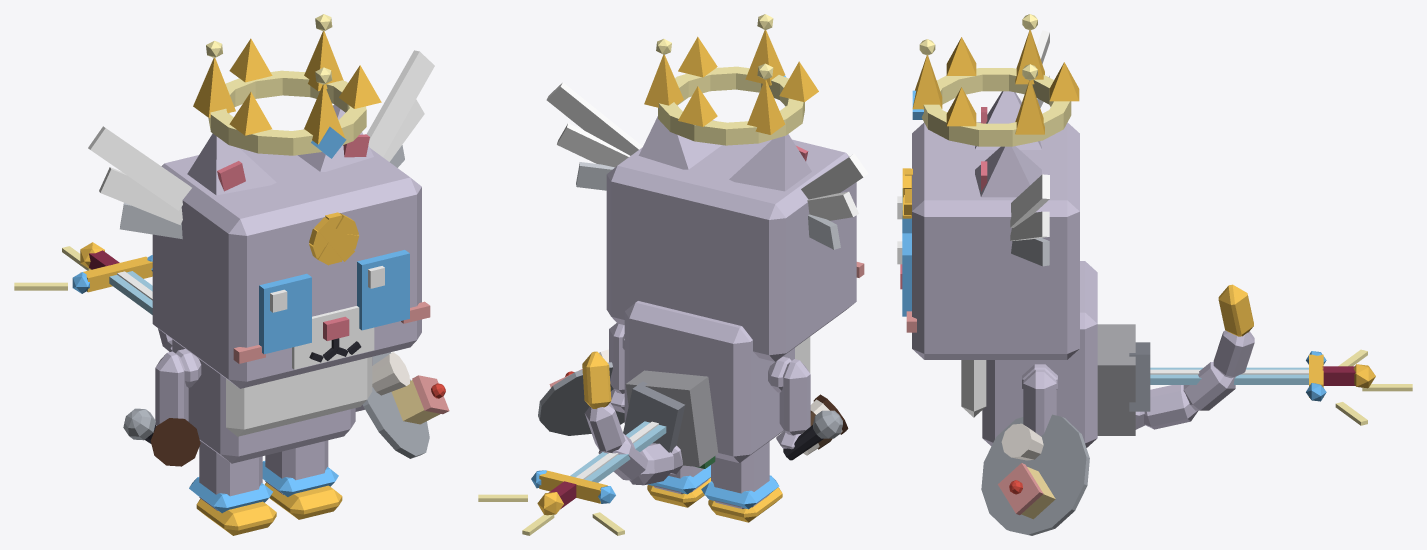
Rendered from CatCafe_Cat_Excalipurr_Work.glb.
3 views of the same model, side by side, from view 1: azimuth 30°, elevation 25°; view 2: azimuth 150°, elevation 25°; view 3: azimuth 270°, elevation 25° (orthographic). The views are drawn at different scales.
Visible parts, largest first — view 1: CatCafe_Cat_Excalipurr_Work_Head, CatCafe_Cat_Excalipurr_Work_Prop, CatCafe_Cat_Excalipurr_Work_Body, CatCafe_Cat_Excalipurr_Work_Glow, CatCafe_Cat_Excalipurr_Work_Held_Waiter, CatCafe_Cat_Excalipurr_Work_LegB2, CatCafe_Cat_Excalipurr_Work_LegB1, CatCafe_Cat_Excalipurr_Work_Eye2, CatCafe_Cat_Excalipurr_Work_Eye1, CatCafe_Cat_Excalipurr_Work_EarR, CatCafe_Cat_Excalipurr_Work_Prop2, CatCafe_Cat_Excalipurr_Work_LegF2 (+4 smaller); view 2: CatCafe_Cat_Excalipurr_Work_Head, CatCafe_Cat_Excalipurr_Work_Body, CatCafe_Cat_Excalipurr_Work_Prop, CatCafe_Cat_Excalipurr_Work_Prop2, CatCafe_Cat_Excalipurr_Work_Glow, CatCafe_Cat_Excalipurr_Work_Tail, CatCafe_Cat_Excalipurr_Work_LegB2, CatCafe_Cat_Excalipurr_Work_Held_Waiter, CatCafe_Cat_Excalipurr_Work_Blade_Glow, CatCafe_Cat_Excalipurr_Work_EarR, CatCafe_Cat_Excalipurr_Work_LegF2, CatCafe_Cat_Excalipurr_Work_EarL (+4 smaller); view 3: CatCafe_Cat_Excalipurr_Work_Head, CatCafe_Cat_Excalipurr_Work_Held_Waiter, CatCafe_Cat_Excalipurr_Work_Body, CatCafe_Cat_Excalipurr_Work_Prop, CatCafe_Cat_Excalipurr_Work_Prop2, CatCafe_Cat_Excalipurr_Work_Glow, CatCafe_Cat_Excalipurr_Work_Tail, CatCafe_Cat_Excalipurr_Work_Blade_Glow, CatCafe_Cat_Excalipurr_Work_EarL, CatCafe_Cat_Excalipurr_Work_LegF1, CatCafe_Cat_Excalipurr_Work_EarR, CatCafe_Cat_Excalipurr_Work_Eye1.
Part boxes in pixels (left/top/right/bottom): CatCafe_Cat_Excalipurr_Work_Head: left=152, top=148, right=430, bottom=388; CatCafe_Cat_Excalipurr_Work_Prop: left=88, top=31, right=434, bottom=239; CatCafe_Cat_Excalipurr_Work_Body: left=172, top=339, right=372, bottom=463; CatCafe_Cat_Excalipurr_Work_Glow: left=206, top=14, right=366, bottom=158; CatCafe_Cat_Excalipurr_Work_Held_Waiter: left=362, top=352, right=449, bottom=458; CatCafe_Cat_Excalipurr_Work_LegB2: left=189, top=441, right=276, bottom=535; CatCafe_Cat_Excalipurr_Work_LegB1: left=262, top=440, right=342, bottom=519; CatCafe_Cat_Excalipurr_Work_Eye2: left=259, top=273, right=311, bottom=354; CatCafe_Cat_Excalipurr_Work_Eye1: left=357, top=250, right=409, bottom=330; CatCafe_Cat_Excalipurr_Work_EarR: left=187, top=133, right=276, bottom=195; CatCafe_Cat_Excalipurr_Work_Prop2: left=72, top=242, right=152, bottom=293; CatCafe_Cat_Excalipurr_Work_LegF2: left=155, top=351, right=188, bottom=425; CatCafe_Cat_Excalipurr_Work_Head: left=606, top=120, right=864, bottom=361; CatCafe_Cat_Excalipurr_Work_Body: left=622, top=301, right=810, bottom=463; CatCafe_Cat_Excalipurr_Work_Prop: left=546, top=30, right=868, bottom=249; CatCafe_Cat_Excalipurr_Work_Prop2: left=531, top=370, right=718, bottom=515; CatCafe_Cat_Excalipurr_Work_Glow: left=656, top=14, right=804, bottom=145; CatCafe_Cat_Excalipurr_Work_Tail: left=582, top=351, right=682, bottom=485; CatCafe_Cat_Excalipurr_Work_LegB2: left=701, top=441, right=782, bottom=522; CatCafe_Cat_Excalipurr_Work_Held_Waiter: left=538, top=349, right=624, bottom=435; CatCafe_Cat_Excalipurr_Work_Blade_Glow: left=478, top=421, right=666, bottom=535; CatCafe_Cat_Excalipurr_Work_EarR: left=729, top=134, right=811, bottom=191; CatCafe_Cat_Excalipurr_Work_LegF2: left=776, top=359, right=810, bottom=449; CatCafe_Cat_Excalipurr_Work_EarL: left=638, top=116, right=721, bottom=169; CatCafe_Cat_Excalipurr_Work_Head: left=900, top=122, right=1079, bottom=359; CatCafe_Cat_Excalipurr_Work_Held_Waiter: left=981, top=414, right=1089, bottom=535; CatCafe_Cat_Excalipurr_Work_Body: left=961, top=261, right=1097, bottom=447; CatCafe_Cat_Excalipurr_Work_Prop: left=912, top=30, right=1079, bottom=266; CatCafe_Cat_Excalipurr_Work_Prop2: left=1097, top=324, right=1375, bottom=435; CatCafe_Cat_Excalipurr_Work_Glow: left=912, top=14, right=1071, bottom=146; CatCafe_Cat_Excalipurr_Work_Tail: left=1135, top=284, right=1254, bottom=429; CatCafe_Cat_Excalipurr_Work_Blade_Glow: left=1150, top=349, right=1412, bottom=425; CatCafe_Cat_Excalipurr_Work_EarL: left=975, top=146, right=1041, bottom=197; CatCafe_Cat_Excalipurr_Work_LegF1: left=1023, top=369, right=1056, bottom=436; CatCafe_Cat_Excalipurr_Work_EarR: left=975, top=91, right=1041, bottom=149; CatCafe_Cat_Excalipurr_Work_Eye1: left=897, top=233, right=911, bottom=316.
Size of the model in its own units: 1.7 by 2.28 by 2.33.
1 material, 1 textured.
